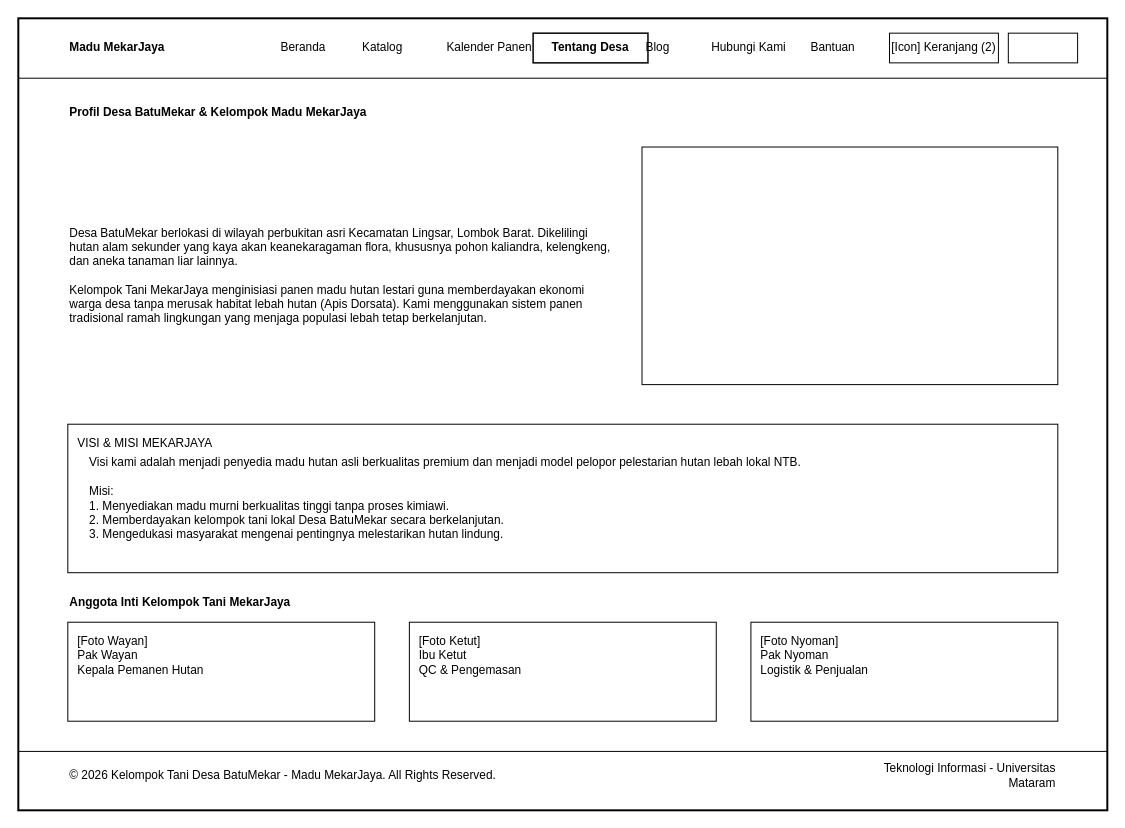
The diagram is 1125 pixels wide and 828 high, and some of its shapes have lost their labels. Here are the shapes that lost their labels. From the top down, the centre of each, then its label:
At point 1042,47: "[Icon] Akun".
At point 849,265: "[ Gambar Lanskap Desa BatuMekar & Sarang Lebah ]".
